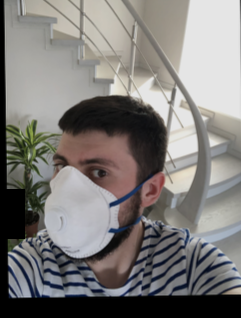with_mask: (43, 147, 130, 264)
